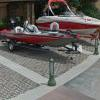Boat: (0, 14, 99, 51)
